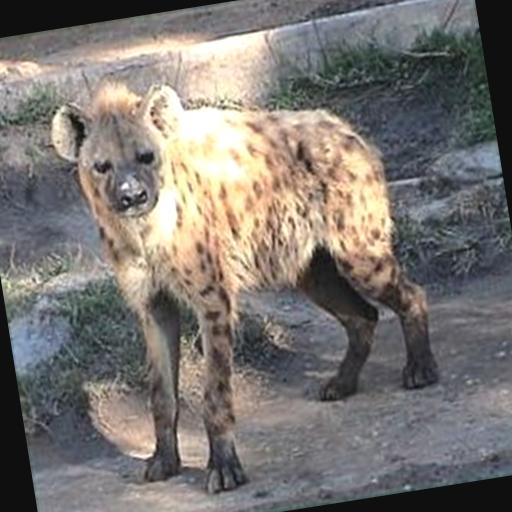hyenas: (0, 32, 451, 512)
